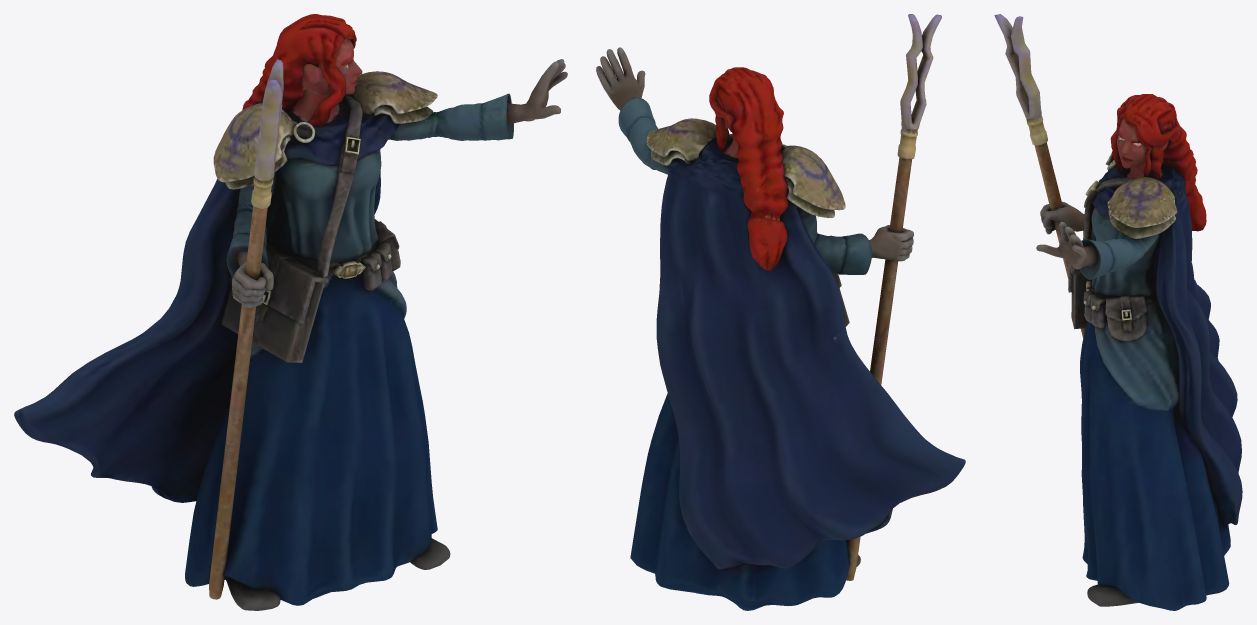
The model's file is MZ4250 - Human Female Abjuration Wizard_4.glb.
The picture shows the model from 3 angles, left to right: view 1: azimuth 30°, elevation 25°; view 2: azimuth 150°, elevation 25°; view 3: azimuth 270°, elevation 25°; orthographic projection. The views are drawn at different scales.
Parts seen in each view (by area): view 1: Cube.002; view 2: Cube.002; view 3: Cube.002.
Boxes of the visible parts, x1,y1,x2,y2 form: Cube.002: (14, 14, 567, 610); Cube.002: (596, 14, 965, 610); Cube.002: (994, 14, 1242, 610).
Size of the model in its own units: 82.16 by 98.91 by 42.75.
Materials: 1 (1 with a texture image).
